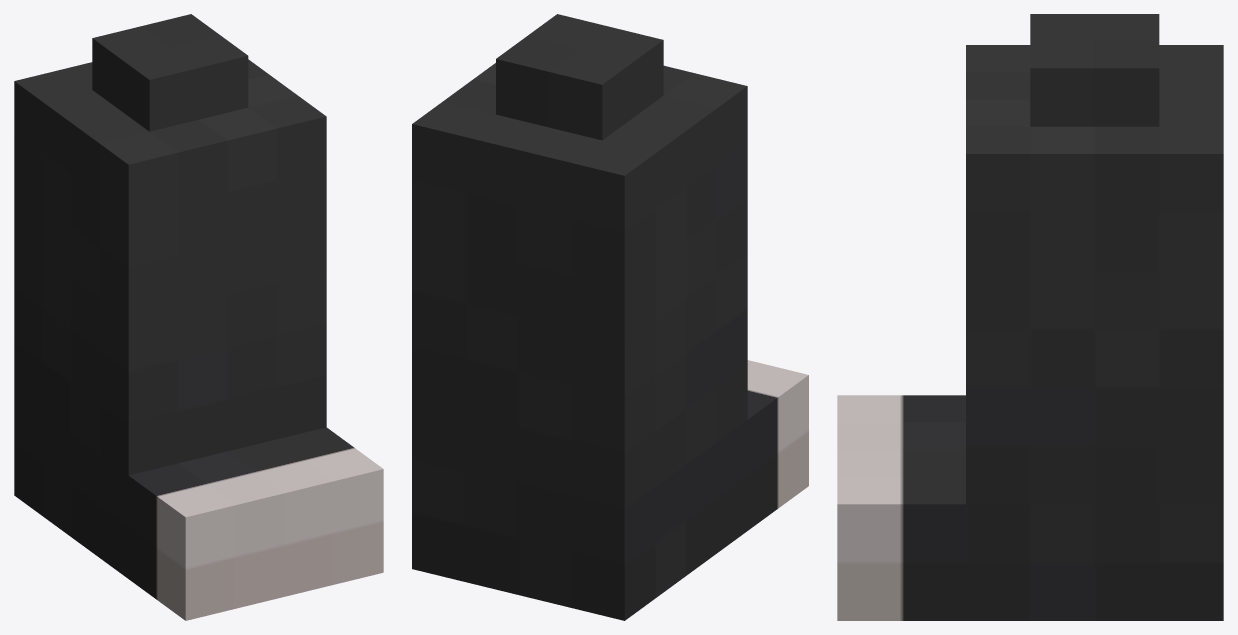
Rendered from Knee058.fbx.
3 renders of one model, left to right at view 1: azimuth 30°, elevation 25°; view 2: azimuth 150°, elevation 25°; view 3: azimuth 270°, elevation 25°, orthographic. The views are drawn at different scales.
Visible parts, largest first — view 1: Knee058; view 2: Knee058; view 3: Knee058.
Boxes of the visible parts, left/top/right/bottom form: Knee058: left=14, top=14, right=383, bottom=620; Knee058: left=412, top=14, right=808, bottom=620; Knee058: left=837, top=14, right=1223, bottom=620.
Bounding box in the file's own units: 4 × 9 × 6.
